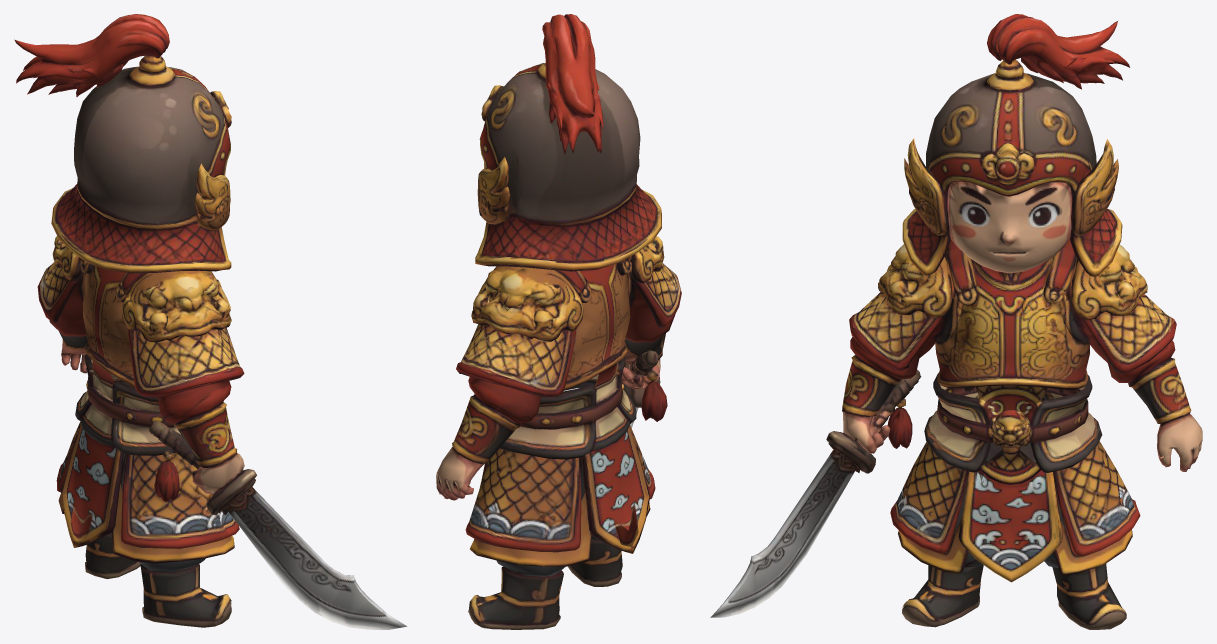
File: 5200764e-8b99-4fe6-92e8-9871d0eeb408_model.glb
3 views of the same model, side by side, from view 1: azimuth 30°, elevation 25°; view 2: azimuth 150°, elevation 25°; view 3: azimuth 270°, elevation 25° (orthographic). The views are drawn at different scales.
Parts seen in each view (by area): view 1: tripo_node_5200764e-8b99-4fe6-92e8-9871d0eeb408; view 2: tripo_node_5200764e-8b99-4fe6-92e8-9871d0eeb408; view 3: tripo_node_5200764e-8b99-4fe6-92e8-9871d0eeb408.
Part boxes in pixels (x1,y1,x2,y2): tripo_node_5200764e-8b99-4fe6-92e8-9871d0eeb408: [14, 14, 407, 629]; tripo_node_5200764e-8b99-4fe6-92e8-9871d0eeb408: [436, 14, 681, 629]; tripo_node_5200764e-8b99-4fe6-92e8-9871d0eeb408: [710, 14, 1202, 629].
Size of the model in its own units: 0.4273 by 1.2 by 0.9097.
1 material, 1 textured.
